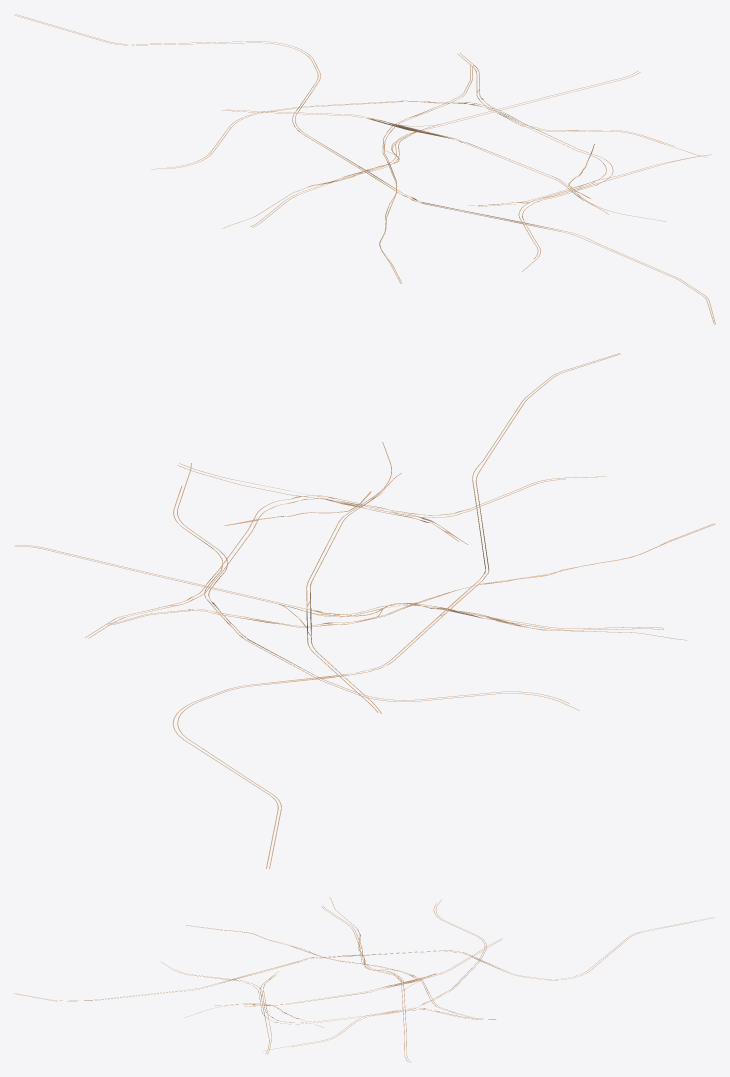
Rendered from rail.glb.
3 renders of one model, top to bottom at view 1: azimuth 30°, elevation 25°; view 2: azimuth 150°, elevation 25°; view 3: azimuth 270°, elevation 25°, orthographic. The views are drawn at different scales.
Visible parts, largest first — view 1: rail; view 2: rail; view 3: rail.
Boxes of the visible parts, x1=… form: rail: x1=14, y1=14, x2=715, y2=324; rail: x1=14, y1=353, x2=715, y2=868; rail: x1=14, y1=897, x2=714, y2=1062.
Size of the model in its own units: 4854 by 54.02 by 8677.
